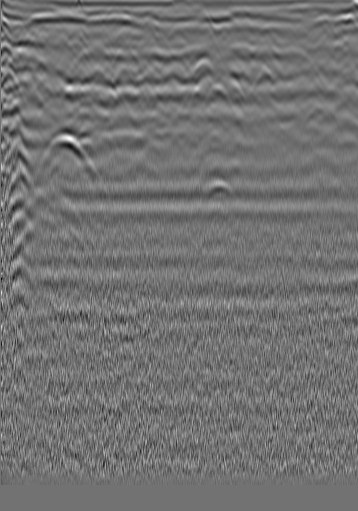상수: (306, 12, 326, 32)
오수: (11, 18, 31, 38)
우수: (134, 18, 154, 38)
